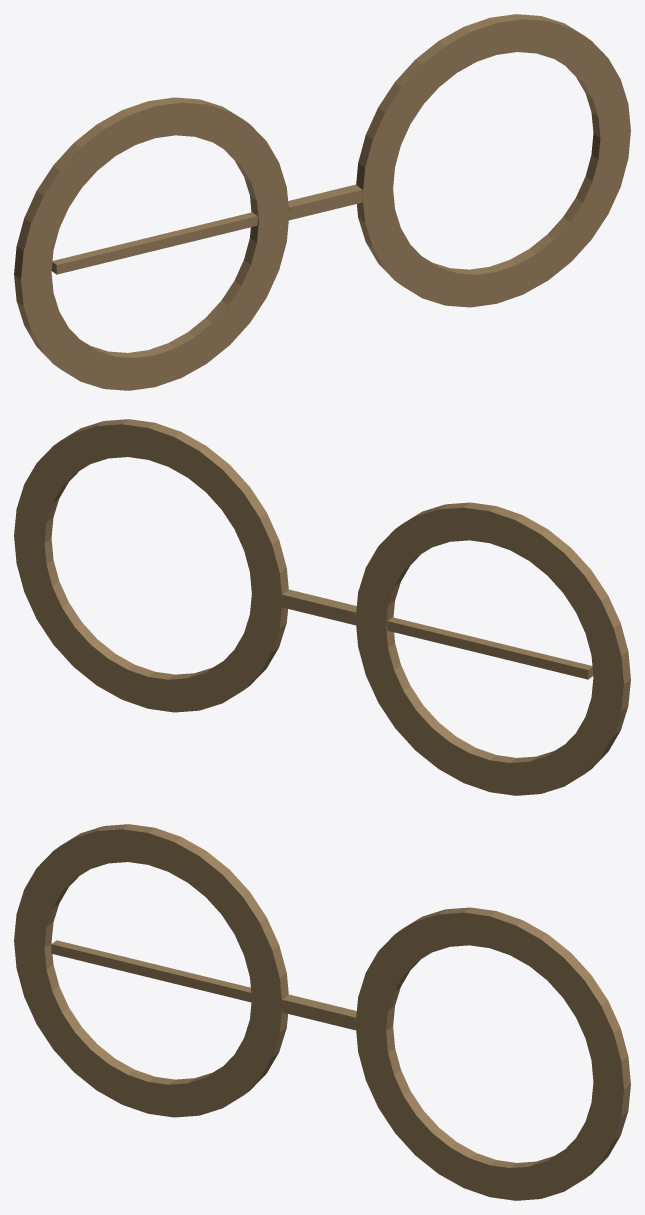
Rendered from orea-ecaille.glb.
3 renders of one model, top to bottom at view 1: azimuth 30°, elevation 25°; view 2: azimuth 150°, elevation 25°; view 3: azimuth 330°, elevation 25°, orthographic.
Visible parts, largest first — view 1: geometry_0; view 2: geometry_0; view 3: geometry_0.
Part boxes in pixels (x1,y1,x2,y2): geometry_0: [14, 14, 630, 390]; geometry_0: [14, 419, 630, 795]; geometry_0: [14, 824, 630, 1200].
Size of the model in its own units: 1 by 0.44 by 0.02.
